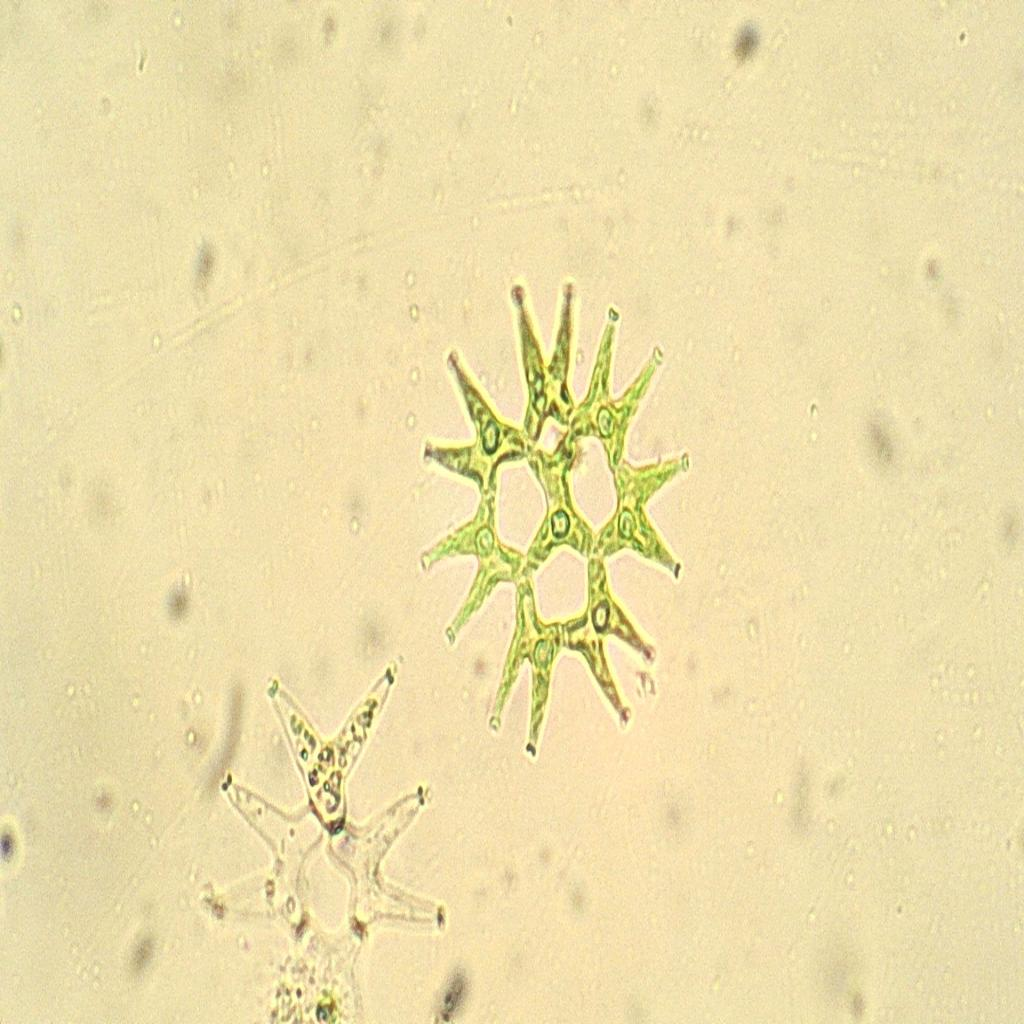Pediastrum_1T: (414, 264, 700, 782)
